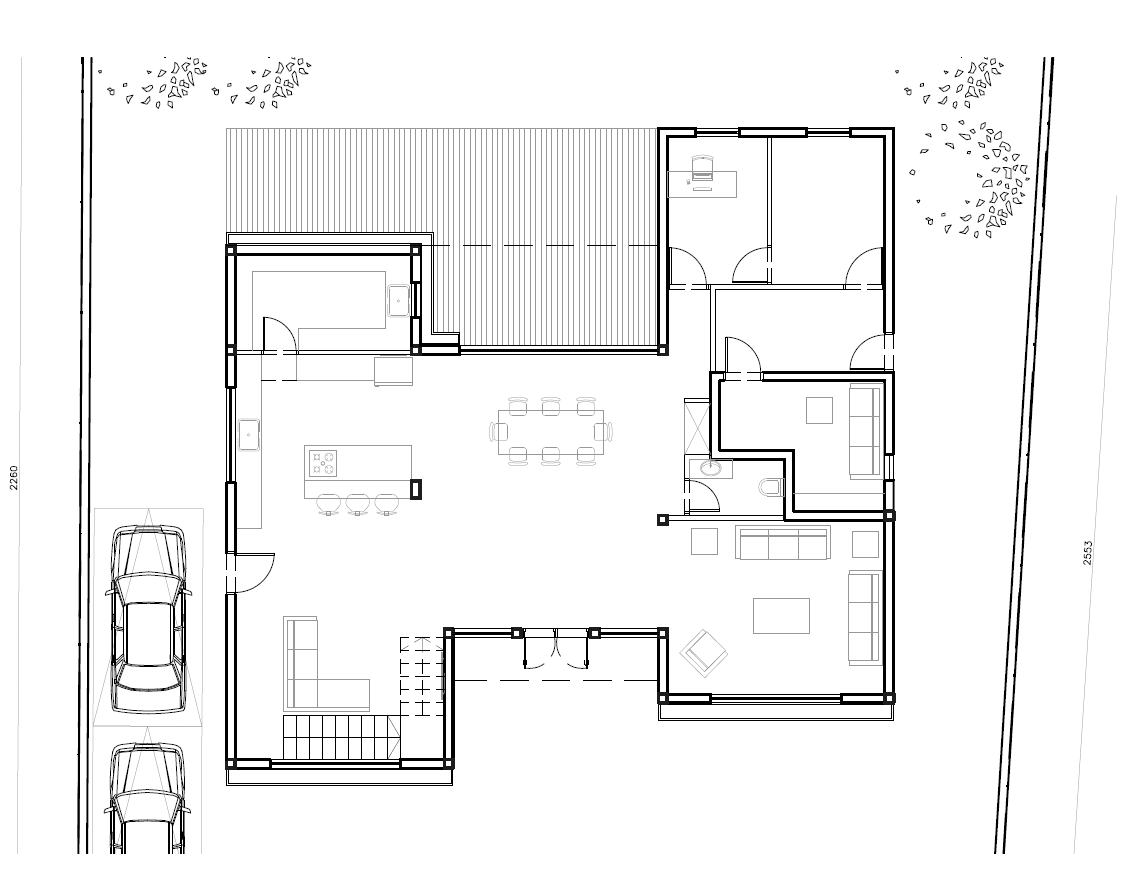door: (523, 627, 590, 675), (839, 242, 886, 290), (844, 327, 889, 375), (255, 311, 308, 349), (731, 246, 778, 288), (237, 549, 282, 591), (670, 244, 716, 283), (721, 337, 768, 368), (683, 479, 724, 513)
room: (450, 367, 667, 618), (240, 360, 441, 598), (682, 529, 877, 687), (237, 607, 440, 753), (674, 140, 883, 279), (683, 377, 882, 514), (236, 259, 413, 353)
wall: (885, 481, 897, 704), (237, 240, 418, 254), (885, 134, 897, 338), (441, 625, 456, 769), (225, 594, 237, 769), (223, 244, 237, 391), (658, 130, 667, 353), (883, 373, 900, 457), (770, 373, 897, 384), (714, 446, 796, 463), (709, 371, 723, 460), (224, 481, 239, 557), (783, 453, 797, 522), (655, 627, 668, 700), (786, 511, 891, 517), (410, 238, 425, 279), (851, 126, 898, 138), (743, 130, 808, 138), (409, 321, 424, 354), (412, 345, 459, 354), (844, 695, 894, 702), (662, 695, 708, 702)
window: (274, 754, 404, 772), (220, 391, 244, 471), (717, 692, 843, 707), (813, 119, 855, 142), (698, 122, 741, 141), (881, 454, 901, 475)
